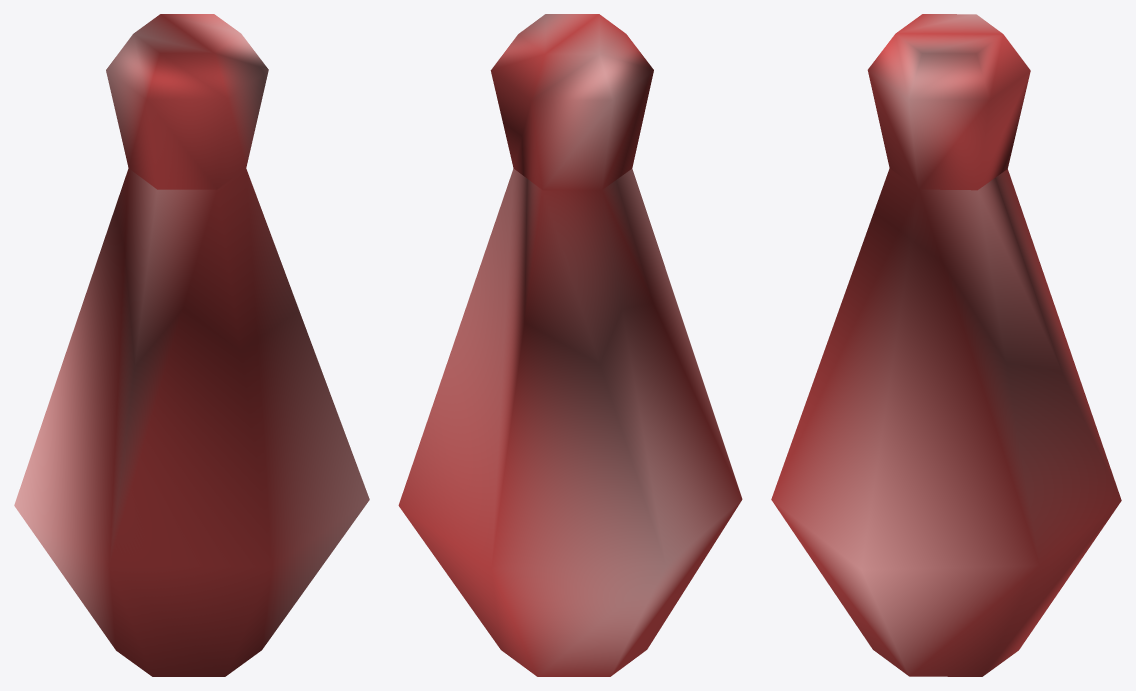
The model's file is fabb.hrc.gltf.
The picture shows the model from 3 angles, left to right: view 1: azimuth 30°, elevation 25°; view 2: azimuth 150°, elevation 25°; view 3: azimuth 270°, elevation 25°; orthographic projection.
Parts seen in each view (by area): view 1: fabbBone0_null; view 2: fabbBone0_null; view 3: fabbBone0_null.
Boxes of the visible parts, x1=… form: fabbBone0_null: x1=14, y1=14, x2=369, y2=676; fabbBone0_null: x1=398, y1=14, x2=742, y2=676; fabbBone0_null: x1=771, y1=14, x2=1121, y2=676.
Size of the model in its own units: 6.23 by 13.48 by 6.94.
